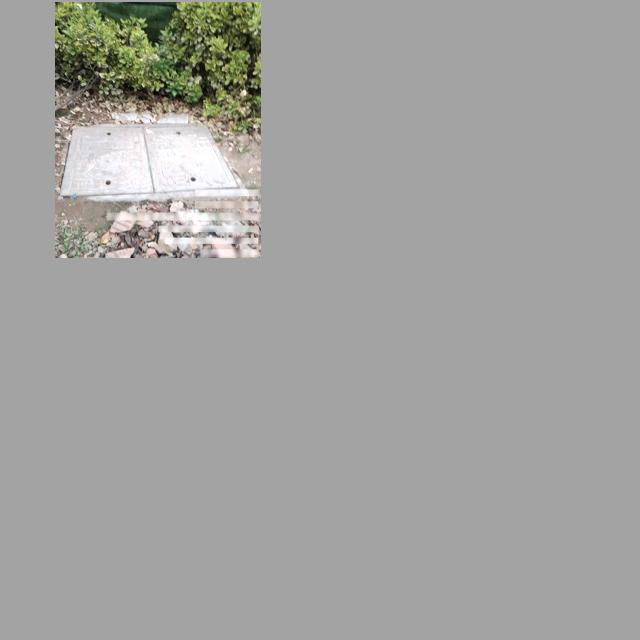good: (60, 123, 240, 195)
